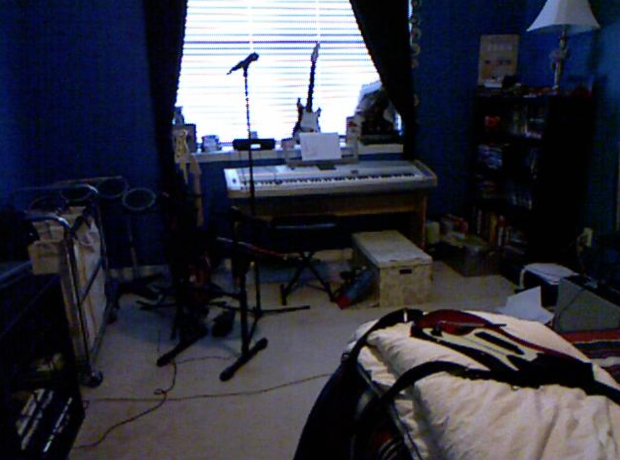window: (183, 3, 381, 94)
